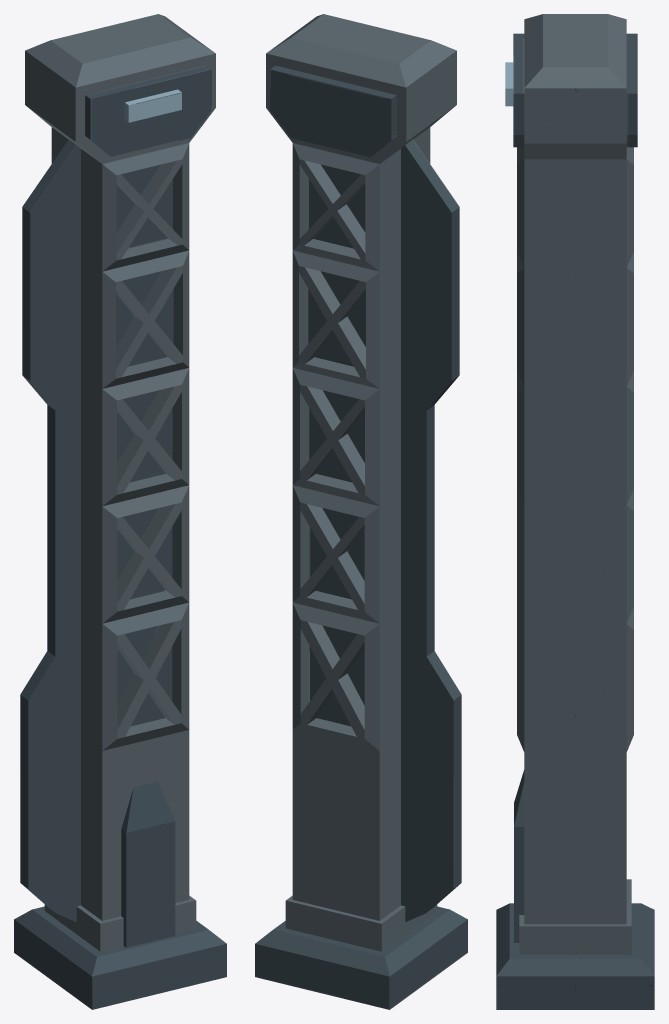
File: gate_power_R.fbx
3 renders of one model, left to right at view 1: azimuth 30°, elevation 25°; view 2: azimuth 150°, elevation 25°; view 3: azimuth 270°, elevation 25°, orthographic.
Visible parts, largest first — view 1: fence_electric_gate_R; view 2: fence_electric_gate_R; view 3: fence_electric_gate_R.
Boxes of the visible parts, bbox=[...] form: fence_electric_gate_R: bbox=[14, 14, 226, 1009]; fence_electric_gate_R: bbox=[255, 14, 467, 1009]; fence_electric_gate_R: bbox=[496, 14, 654, 1009].
Bounding box in the file's own units: 104 × 556 × 85.04.
